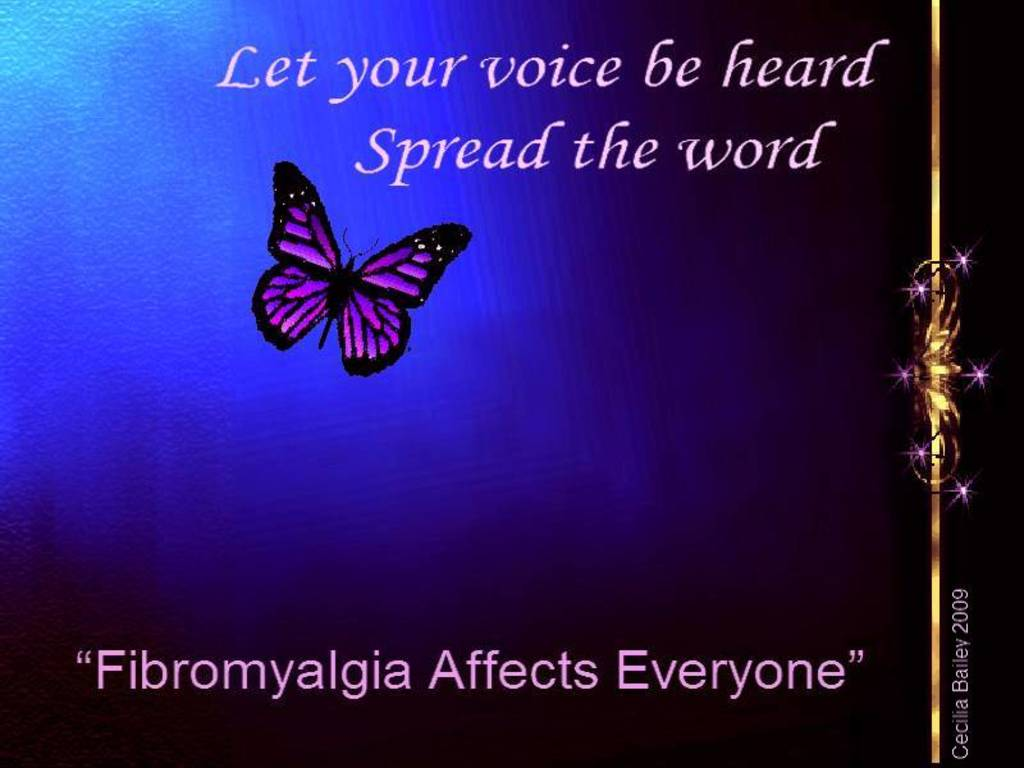Butterfly: (234, 139, 484, 389)
